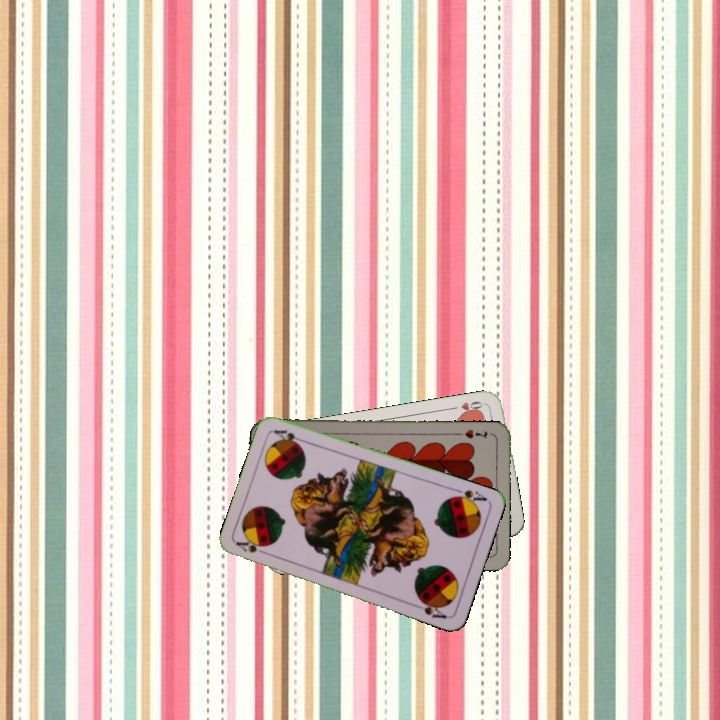H7: (461, 425, 490, 441)
HO: (448, 397, 488, 417)
SA: (448, 484, 490, 508), (232, 537, 272, 558)
